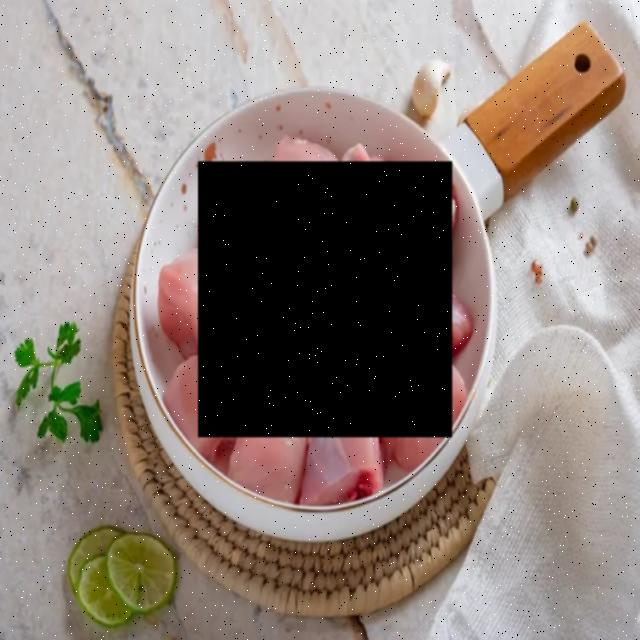Chicken: (198, 162, 452, 438)
